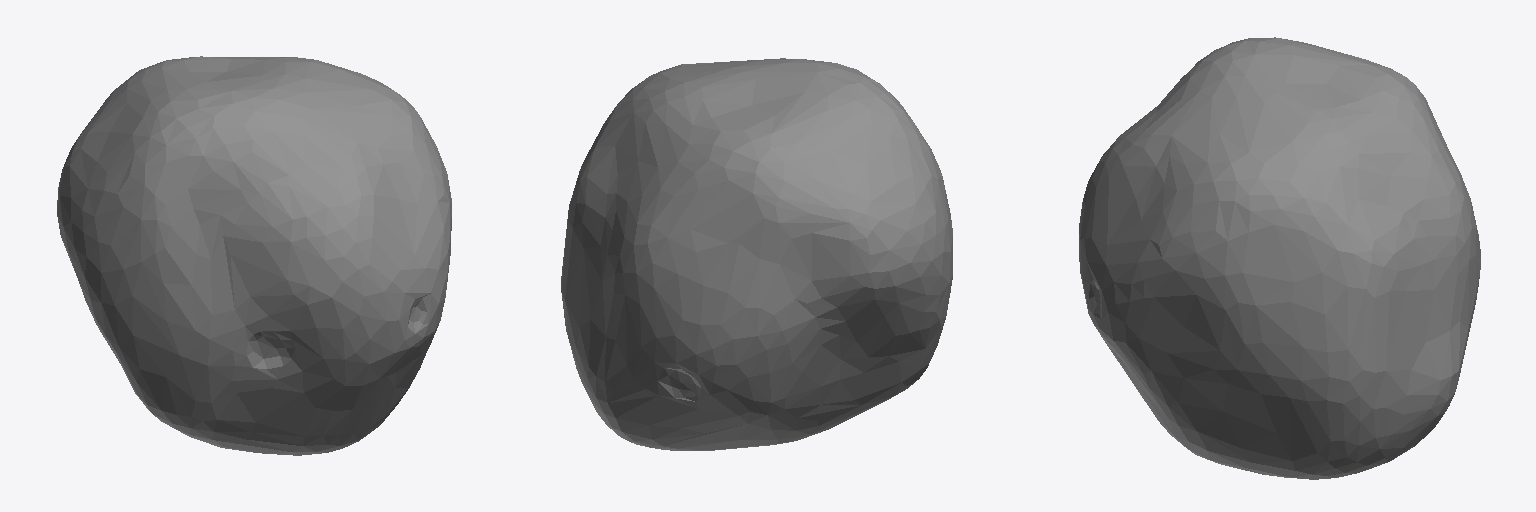
Rendered from astroid_1.obj.
3 views of the same model, side by side, from view 1: azimuth 30°, elevation 25°; view 2: azimuth 150°, elevation 25°; view 3: azimuth 270°, elevation 25° (orthographic).
Visible parts, largest first — view 1: 10464_Asteroid_v1_Iterations-2; view 2: 10464_Asteroid_v1_Iterations-2; view 3: 10464_Asteroid_v1_Iterations-2.
Part boxes in pixels (bbox=[...]): 10464_Asteroid_v1_Iterations-2: bbox=[57, 56, 451, 455]; 10464_Asteroid_v1_Iterations-2: bbox=[561, 58, 952, 450]; 10464_Asteroid_v1_Iterations-2: bbox=[1079, 37, 1480, 479].
Bounding box in the file's own units: 26.47 × 26.86 × 26.73.